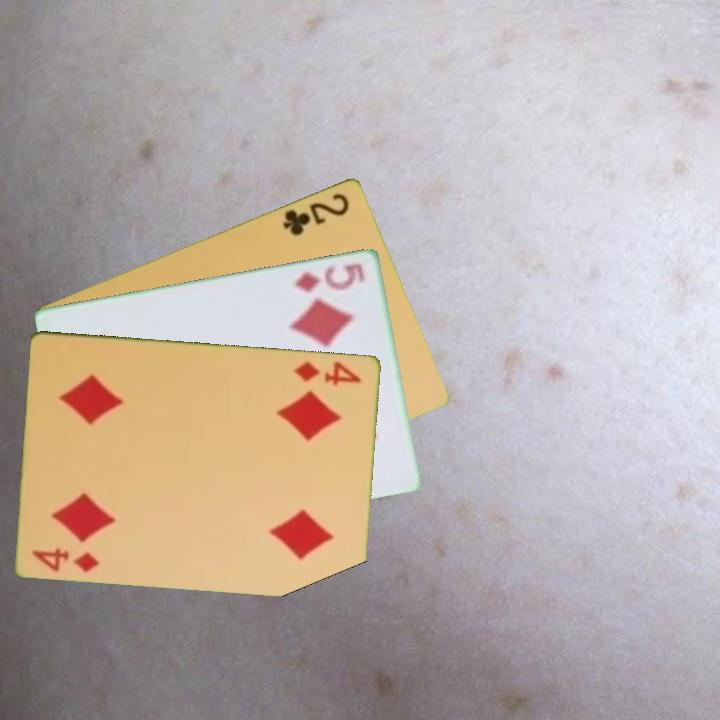2c: (279, 189, 353, 238)
4d: (290, 357, 364, 388), (29, 544, 103, 575)
5d: (290, 259, 368, 295)
